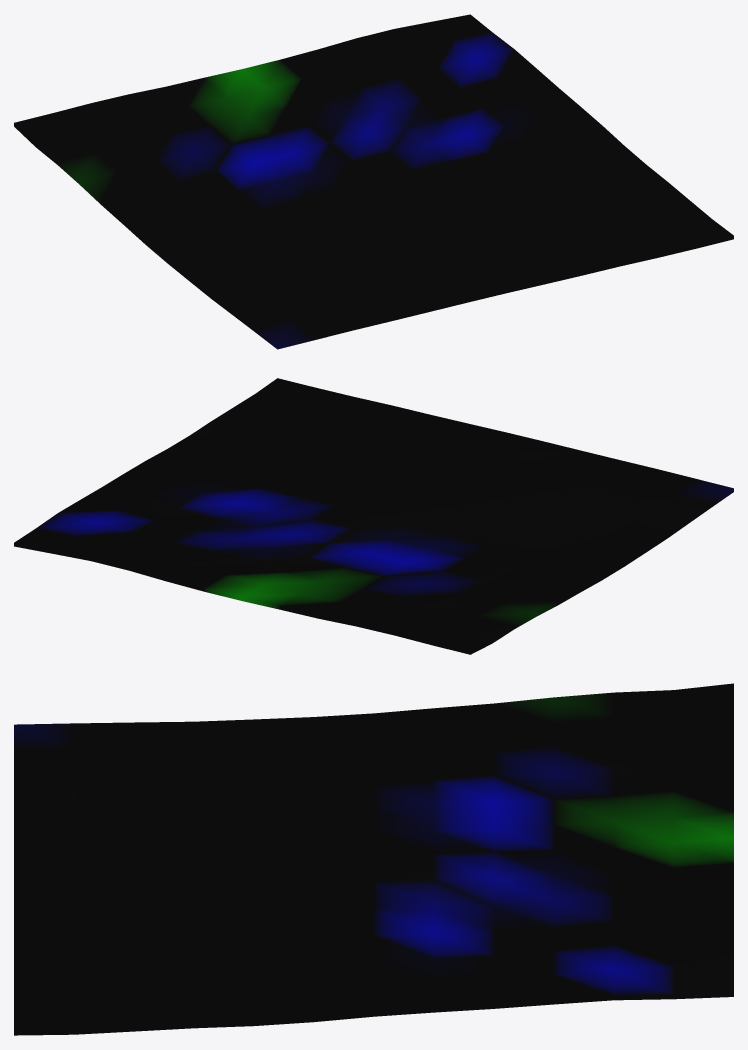
File: coast_17_6.glb
3 views of the same model, one above another, from view 1: azimuth 30°, elevation 25°; view 2: azimuth 150°, elevation 25°; view 3: azimuth 270°, elevation 25° (orthographic). The views are drawn at different scales.
Parts seen in each view (by area): view 1: terrain; view 2: terrain; view 3: terrain.
Boxes of the visible parts, x1,y1,x2,y2 form: terrain: [14, 14, 733, 349]; terrain: [14, 378, 733, 654]; terrain: [14, 683, 733, 1035].
Size of the model in its own units: 192 by 14.58 by 192.
